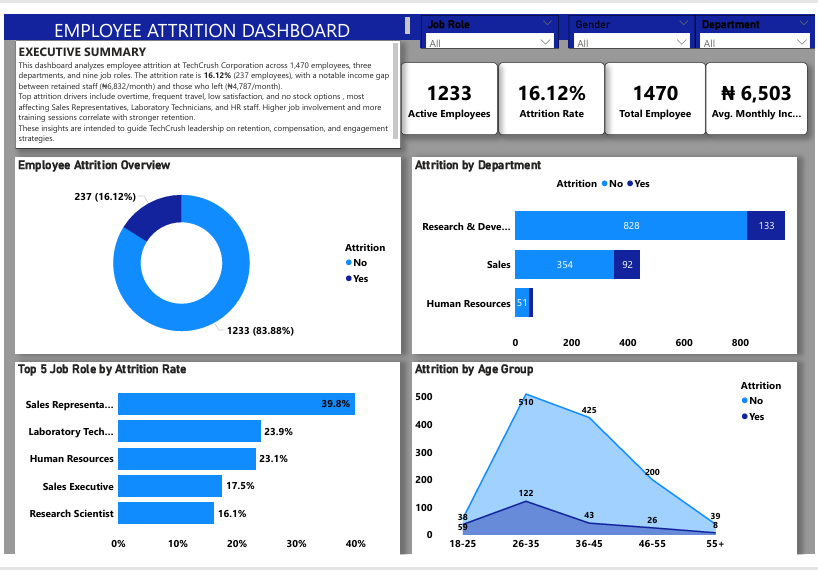

What the dashboard file says about the page in this screenshot:
{"tool":"powerbi","page":{"name":"Detailed Analysis","canvas":[1620,1080],"ordinal":0},"visuals":[{"type":"shape","box":[-11.6,0,1632.6,51.2],"z":0},{"type":"textbox","box":[95.3,0,720.9,51.2],"z":1000},{"type":"card","fields":{"Values":["WA_Fn-UseC_-HR-Employee-Attriti.Total Employee"]},"box":[1200,95.3,202.3,144.2],"z":2000},{"type":"card","fields":{"Values":["WA_Fn-UseC_-HR-Employee-Attriti.Attrition Rate"]},"box":[988.4,95.3,211.6,144.2],"z":3000},{"type":"card","fields":{"Values":["WA_Fn-UseC_-HR-Employee-Attriti.Active Employees"]},"box":[793,95.3,193,144.2],"z":4000},{"type":"card","fields":{"Values":["WA_Fn-UseC_-HR-Employee-Attriti.Avg. Monthly Income"]},"box":[1402.3,95.3,202.3,144.2],"z":5000},{"type":"donutChart","title":"Employee Attrition Overview","fields":{"Category":["WA_Fn-UseC_-HR-Employee-Attriti.Attrition"],"Y":["CountNonNull(WA_Fn-UseC_-HR-Employee-Attriti.Attrition)"]},"box":[23.3,286,769.8,393],"z":6000},{"type":"barChart","title":"Attrition by Department","fields":{"Category":["WA_Fn-UseC_-HR-Employee-Attriti.Department"],"Y":["CountNonNull(WA_Fn-UseC_-HR-Employee-Attriti.Employee Number)"],"Series":["WA_Fn-UseC_-HR-Employee-Attriti.Attrition"]},"box":[816.3,286,767.4,393],"z":7000},{"type":"barChart","title":"Top 5 Job Role by Attrition Rate","fields":{"Category":["WA_Fn-UseC_-HR-Employee-Attriti.Job Role"],"Y":["WA_Fn-UseC_-HR-Employee-Attriti.Attrition Rate by Role"]},"box":[23.3,695.3,767.4,386],"z":8000},{"type":"areaChart","title":"Attrition by Age Group ","fields":{"Category":["WA_Fn-UseC_-HR-Employee-Attriti.Age Group"],"Y":["CountNonNull(WA_Fn-UseC_-HR-Employee-Attriti.Attrition)"],"Series":["WA_Fn-UseC_-HR-Employee-Attriti.Attrition"]},"box":[816.3,695.3,767.4,386],"z":9000},{"type":"slicer","fields":{"Values":["WA_Fn-UseC_-HR-Employee-Attriti.Department"]},"box":[1381.4,0,239.5,67.4],"z":10000},{"type":"slicer","fields":{"Values":["WA_Fn-UseC_-HR-Employee-Attriti.Gender"]},"box":[1127.9,0,253.5,67.4],"z":11000},{"type":"slicer","fields":{"Values":["WA_Fn-UseC_-HR-Employee-Attriti.Job Role"]},"box":[832.6,0,276.7,67.4],"z":12000},{"type":"textbox","box":[23.3,51.2,769.8,216.3],"z":13000}]}

Visuals, with their boxes in screenshot pixels (x1, y1, x2, y2):
shape: {"left": 0, "top": 11, "right": 811, "bottom": 36}
textbox: {"left": 52, "top": 11, "right": 411, "bottom": 36}
card - WA_Fn-UseC_-HR-Employee-Attriti.Total Employee: {"left": 602, "top": 58, "right": 703, "bottom": 130}
card - WA_Fn-UseC_-HR-Employee-Attriti.Attrition Rate: {"left": 496, "top": 58, "right": 602, "bottom": 130}
card - WA_Fn-UseC_-HR-Employee-Attriti.Active Employees: {"left": 399, "top": 58, "right": 495, "bottom": 130}
card - WA_Fn-UseC_-HR-Employee-Attriti.Avg. Monthly Income: {"left": 703, "top": 58, "right": 803, "bottom": 130}
"Employee Attrition Overview" donutChart: {"left": 16, "top": 153, "right": 399, "bottom": 349}
"Attrition by Department" barChart: {"left": 411, "top": 153, "right": 793, "bottom": 349}
"Top 5 Job Role by Attrition Rate" barChart: {"left": 16, "top": 357, "right": 398, "bottom": 549}
"Attrition by Age Group " areaChart: {"left": 411, "top": 357, "right": 793, "bottom": 549}
slicer - WA_Fn-UseC_-HR-Employee-Attriti.Department: {"left": 692, "top": 11, "right": 811, "bottom": 44}
slicer - WA_Fn-UseC_-HR-Employee-Attriti.Gender: {"left": 566, "top": 11, "right": 692, "bottom": 44}
slicer - WA_Fn-UseC_-HR-Employee-Attriti.Job Role: {"left": 419, "top": 11, "right": 557, "bottom": 44}
textbox: {"left": 16, "top": 36, "right": 399, "bottom": 144}
